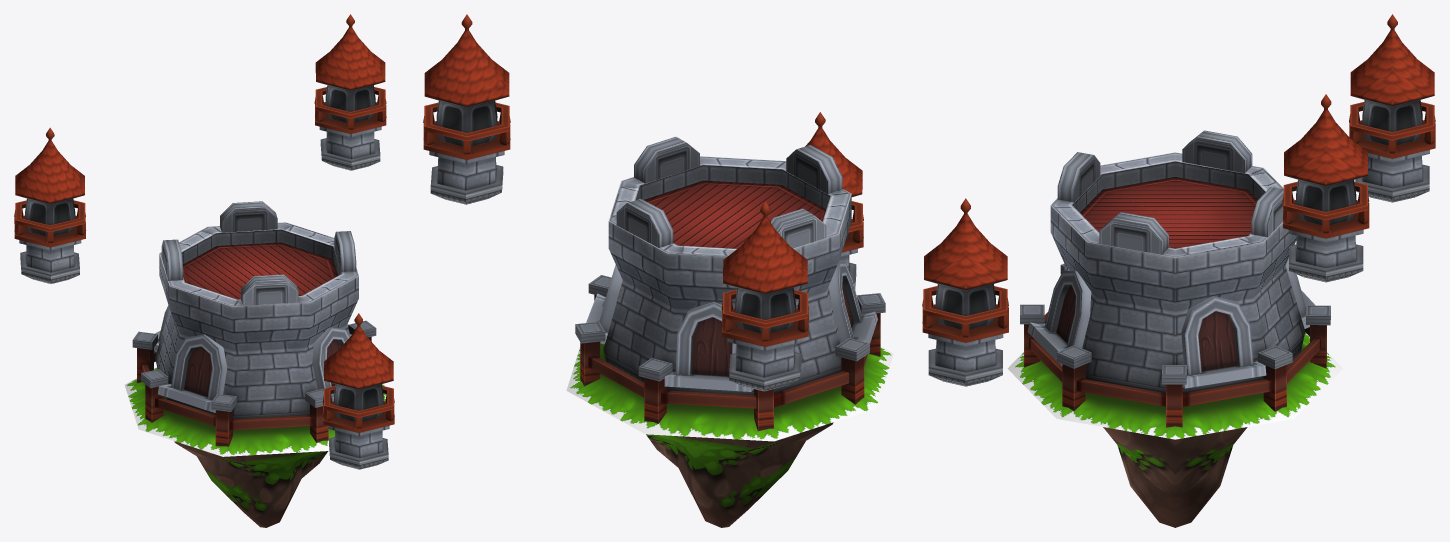
Rendered from MageTower_Level2.FBX.
3 views of the same model, side by side, from view 1: azimuth 30°, elevation 25°; view 2: azimuth 150°, elevation 25°; view 3: azimuth 270°, elevation 25° (orthographic). The views are drawn at different scales.
Parts seen in each view (by area): view 1: MageTower_Level2; view 2: MageTower_Level2; view 3: MageTower_Level2.
Boxes of the visible parts, box(x1,y1,x2,y2) form: MageTower_Level2: box(14, 14, 394, 527); MageTower_Level2: box(423, 14, 893, 527); MageTower_Level2: box(922, 14, 1435, 527).
Bounding box in the file's own units: 70.53 × 84.25 × 75.57.
